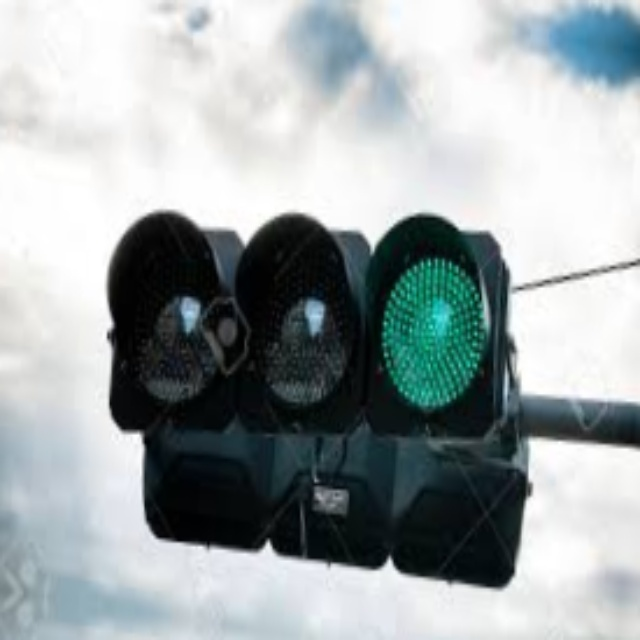green_light: (375, 248, 495, 416)
